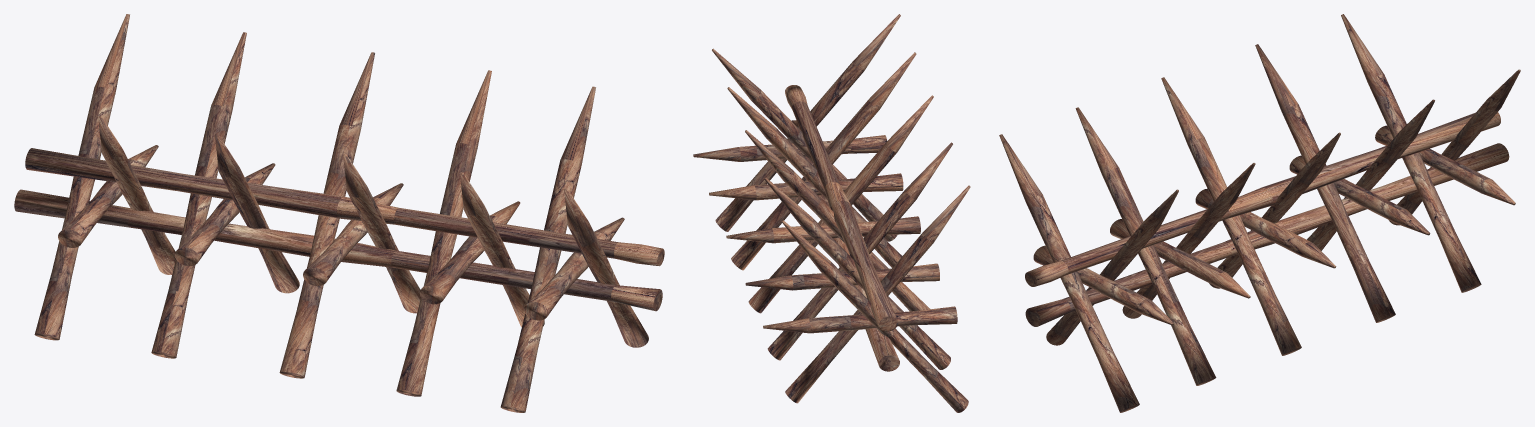
The model's file is Barreira 1.fbx.
3 views of the same model, side by side, from view 1: azimuth 30°, elevation 25°; view 2: azimuth 150°, elevation 25°; view 3: azimuth 270°, elevation 25° (orthographic). The views are drawn at different scales.
Parts seen in each view (by area): view 1: Cylinder.016; view 2: Cylinder.016; view 3: Cylinder.016.
Boxes of the visible parts, x1=… form: Cylinder.016: x1=14, y1=14, x2=664, y2=412; Cylinder.016: x1=693, y1=14, x2=970, y2=412; Cylinder.016: x1=999, y1=14, x2=1520, y2=412.
Size of the model in its own units: 827 by 419 by 908.
1 material, 1 textured.
